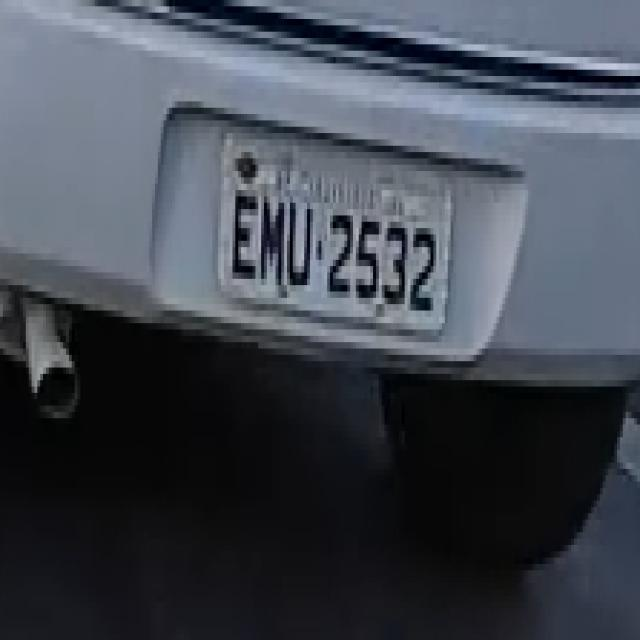Placa_mercosul_carro: (216, 127, 450, 333)
